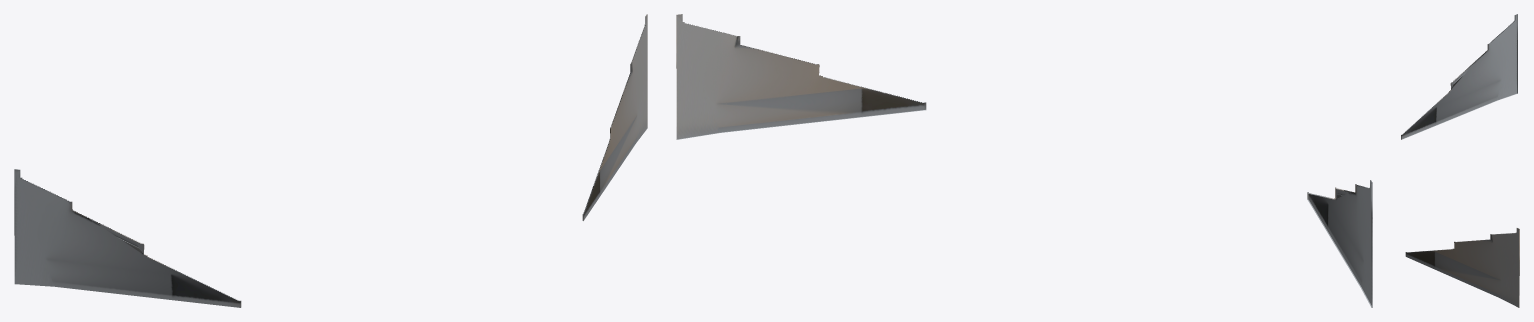
File: Side walls.fbx
The picture shows the model from 3 angles, left to right: view 1: azimuth 30°, elevation 25°; view 2: azimuth 150°, elevation 25°; view 3: azimuth 270°, elevation 25°; orthographic projection. The views are drawn at different scales.
Parts seen in each view (by area): view 1: Side walls; view 2: Side walls; view 3: Side walls.
Boxes of the visible parts, bbox=[...] form: Side walls: bbox=[14, 14, 647, 307]; Side walls: bbox=[676, 14, 1372, 307]; Side walls: bbox=[1401, 14, 1519, 307].
Size of the model in its own units: 9599 by 1656 by 2248.
Materials: 1 (1 with a texture image).
